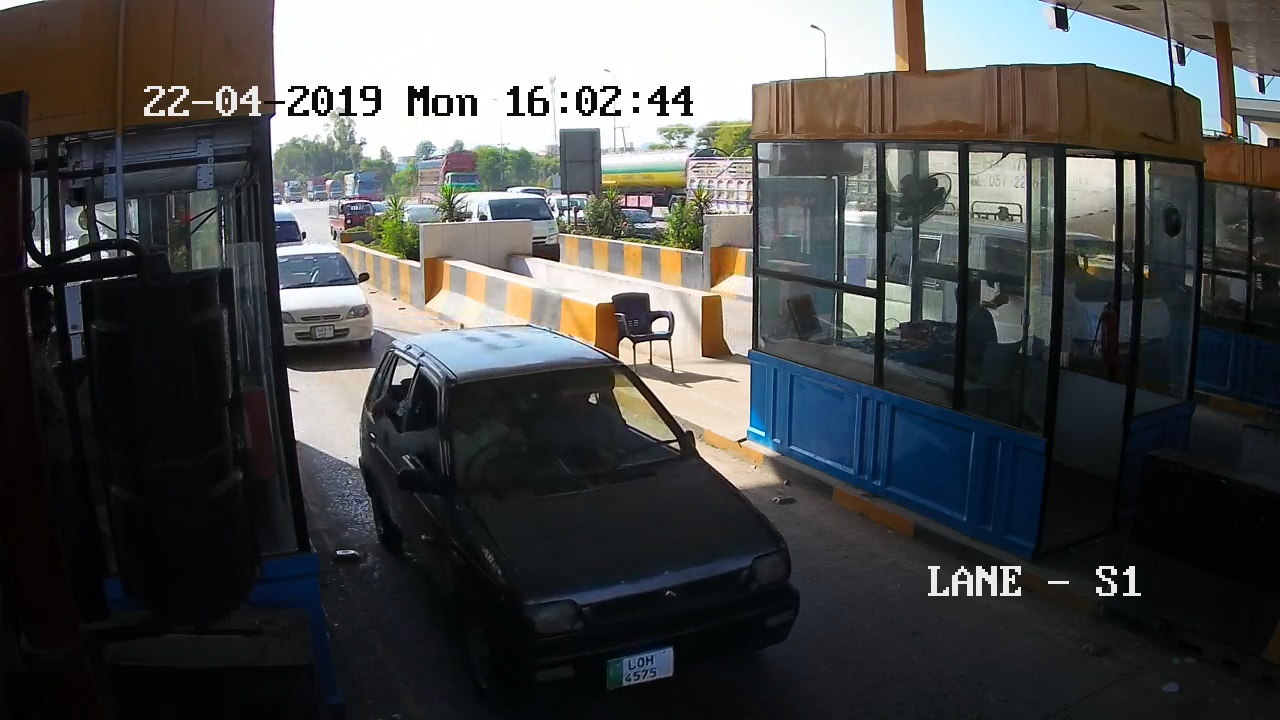Number Plate (Car): (608, 643, 675, 689)
